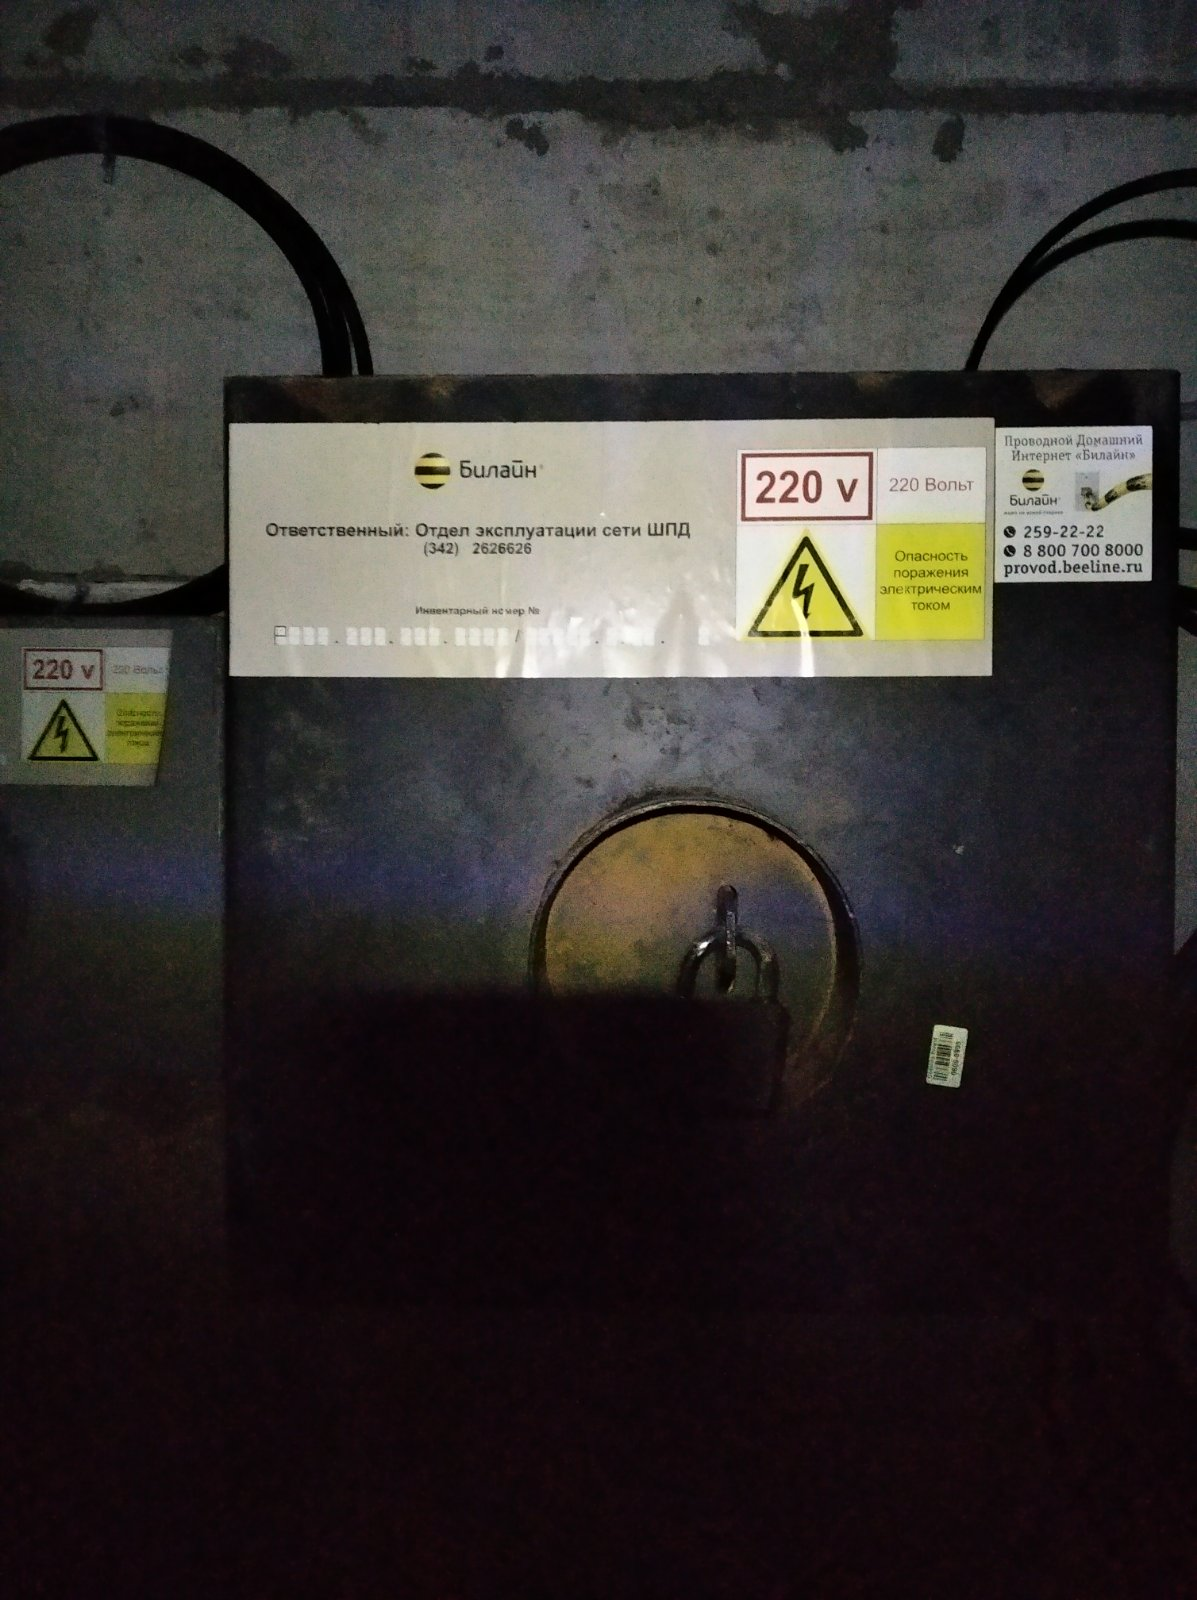shta-9: (197, 349, 1181, 1432)
